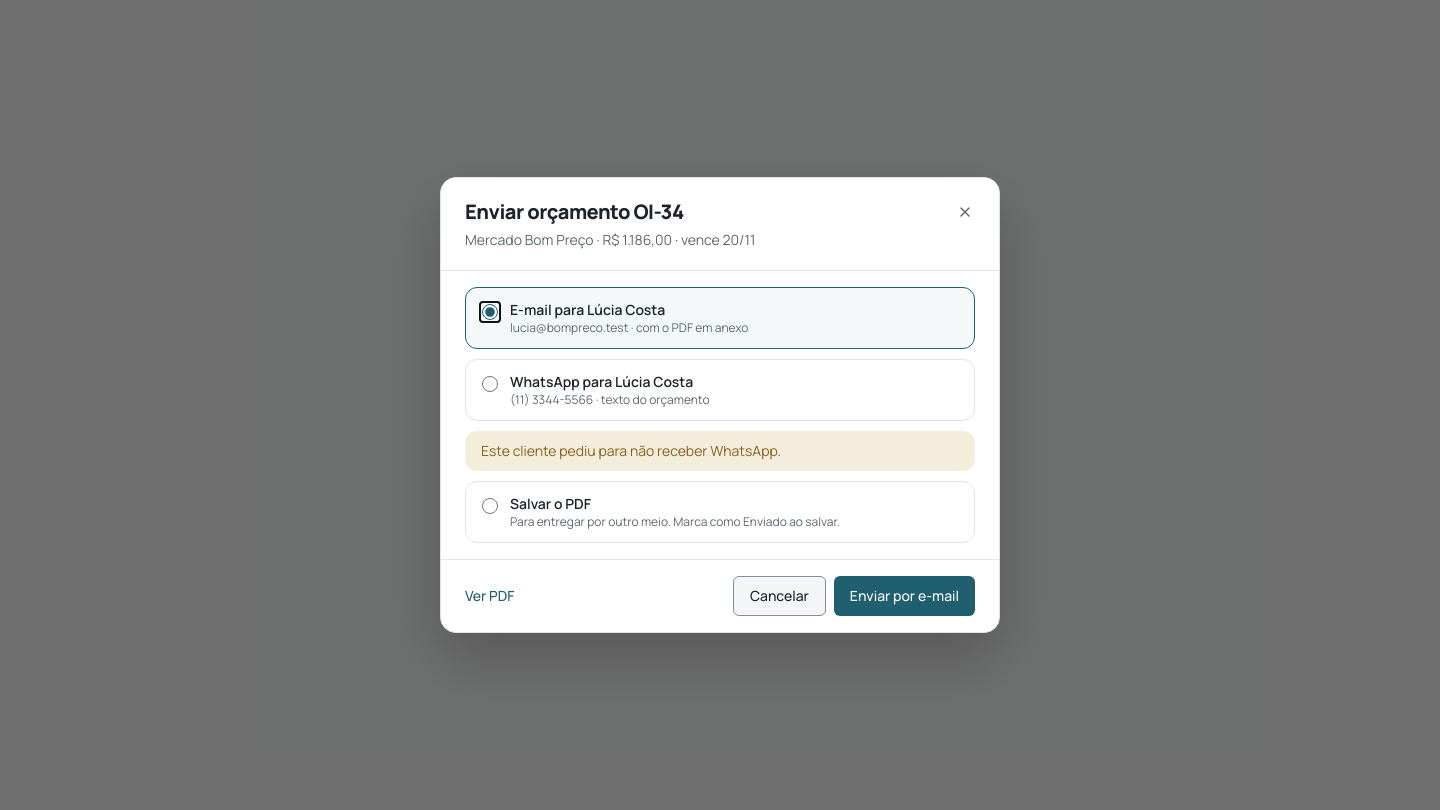
Test: AcaoVendaDialog: casos da antiga janela do orçamento › envio que falha não marca como enviado e mostra o motivo no modal
Expected: the heading "Enviar orçamento OI-34" is shown, [465,198,684,225]
What coordinates should you click on to do the following:
click the button "Enviar por e-mail"
I would click on:
 (904, 596)
Its box is [834,576,975,616].
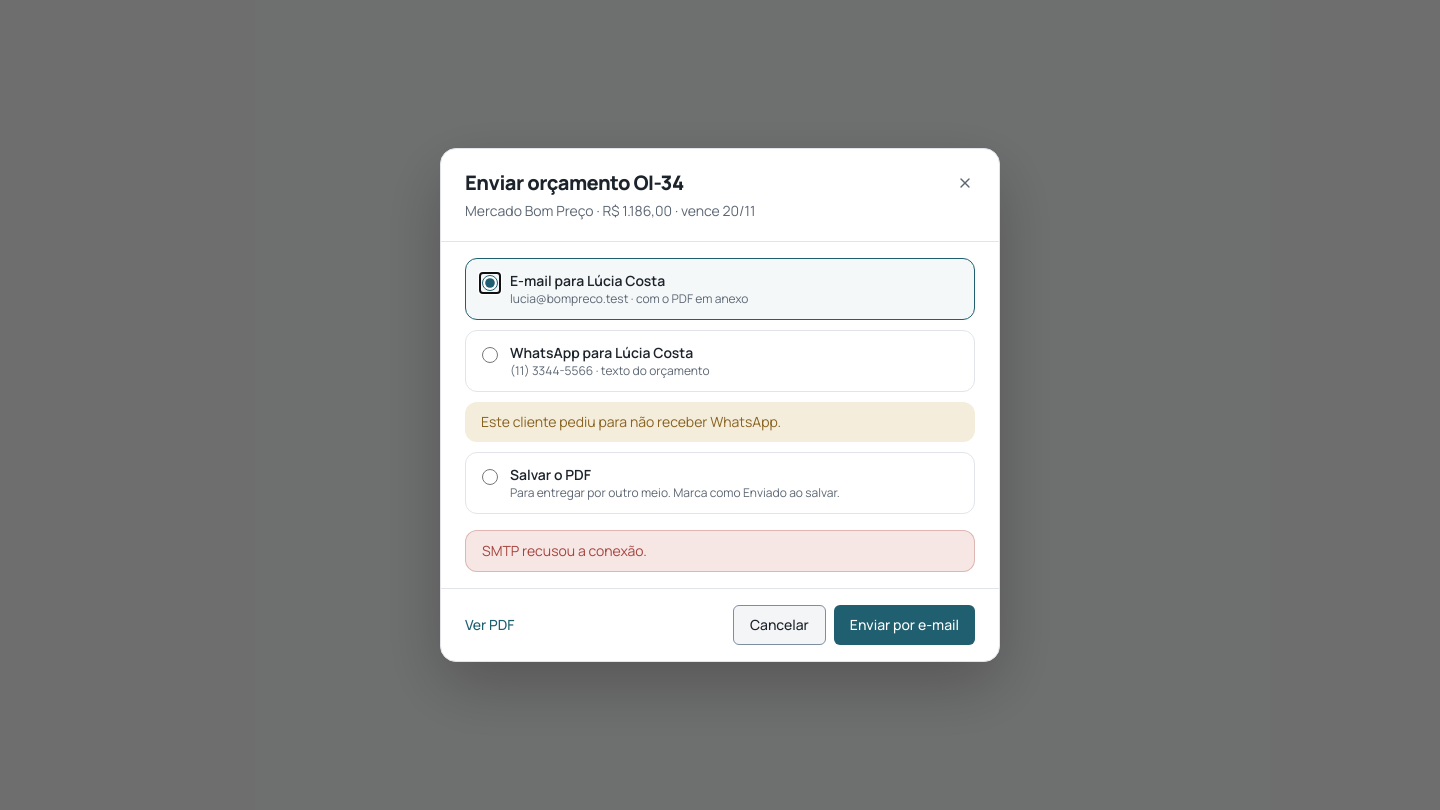
Expected: the message reads "SMTP recusou a conexão.", [482,541,647,560]
